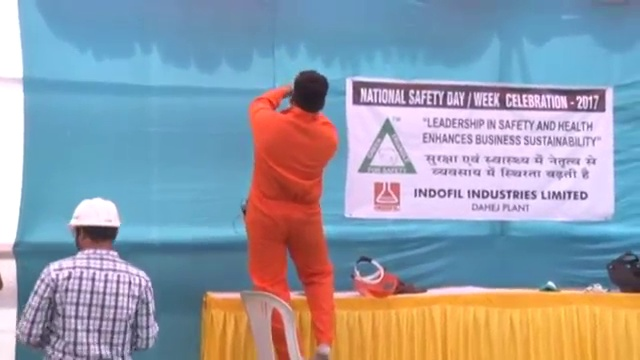helmet: (68, 196, 122, 231)
helmet_off: (293, 70, 328, 114)
helmet_on: (66, 194, 122, 255)
person: (241, 70, 338, 358), (15, 195, 164, 360)
